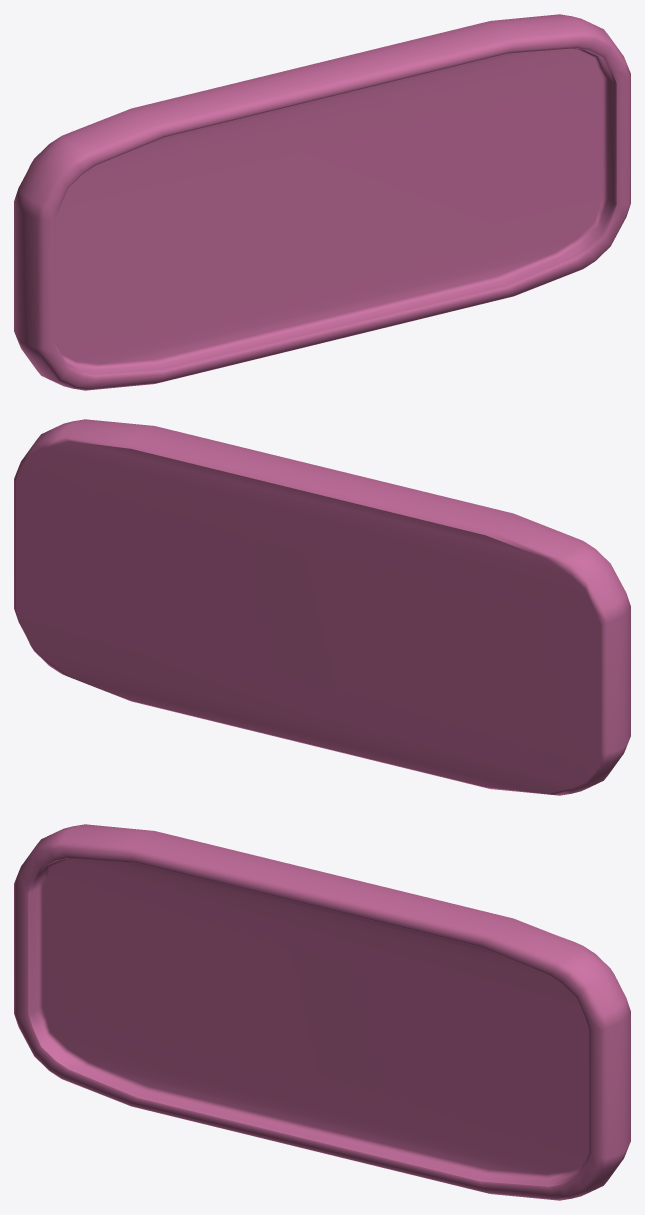
Rendered from SM_CatSuppliesSign.fbx.
3 views of the same model, one above another, from view 1: azimuth 30°, elevation 25°; view 2: azimuth 150°, elevation 25°; view 3: azimuth 330°, elevation 25° (orthographic).
Parts seen in each view (by area): view 1: SM_CatSuppliesSign; view 2: SM_CatSuppliesSign; view 3: SM_CatSuppliesSign.
Part boxes in pixels (x1,y1,x2,y2): SM_CatSuppliesSign: (14,14,630,390); SM_CatSuppliesSign: (14,419,630,795); SM_CatSuppliesSign: (14,824,630,1200).
Bounding box in the file's own units: 169 × 70.11 × 13.85.
Materials: 1 (1 with a texture image).
